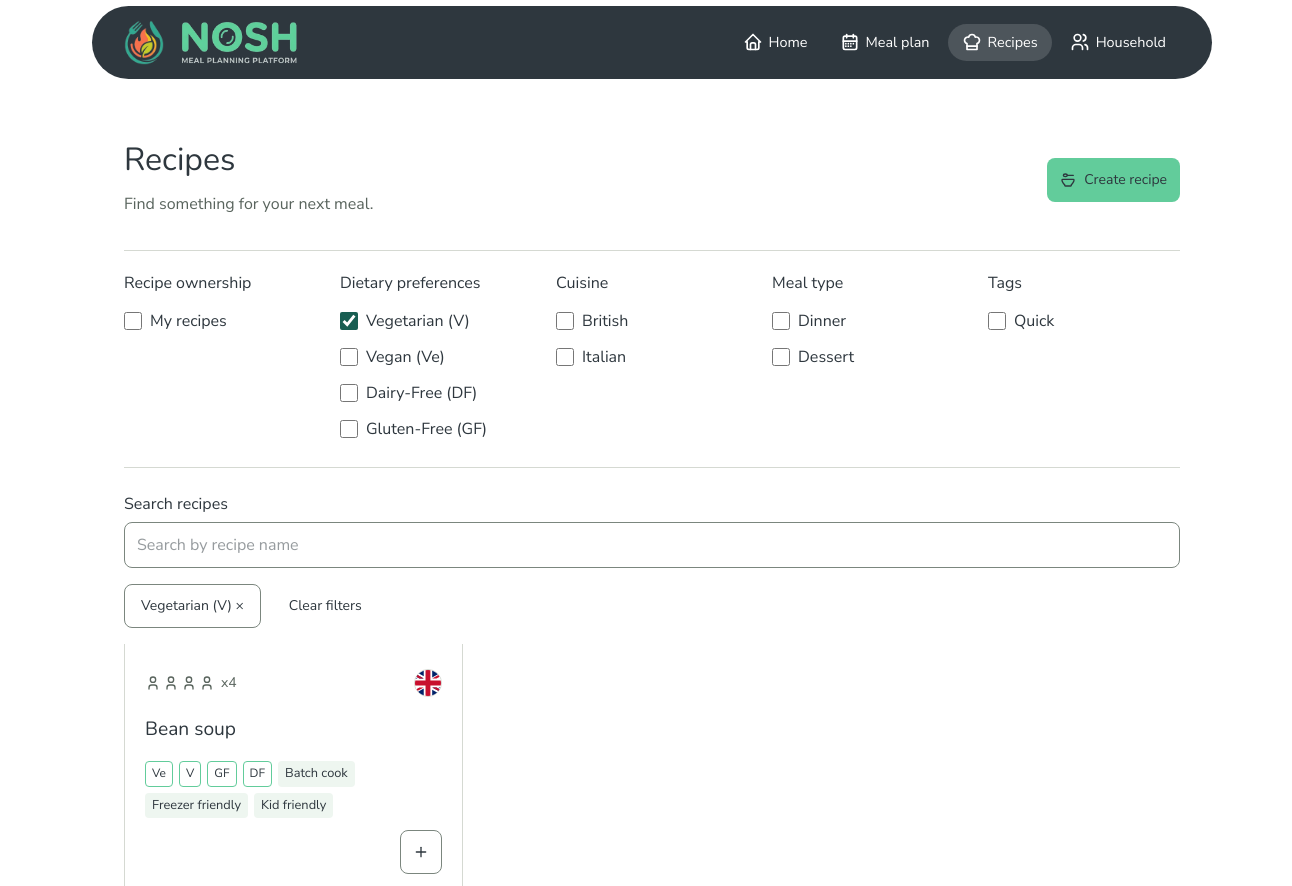
initialises household filters, clears the dietary param on clear, and shows dietary chips before three card tags
Expected: the link "Bean soup" is shown, [145, 716, 236, 742]
Expected: the list item "Ve" is shown, [145, 762, 173, 787]
Click the button "Clear filters" at (325, 606), box [273, 584, 378, 628]
(page scrolled)
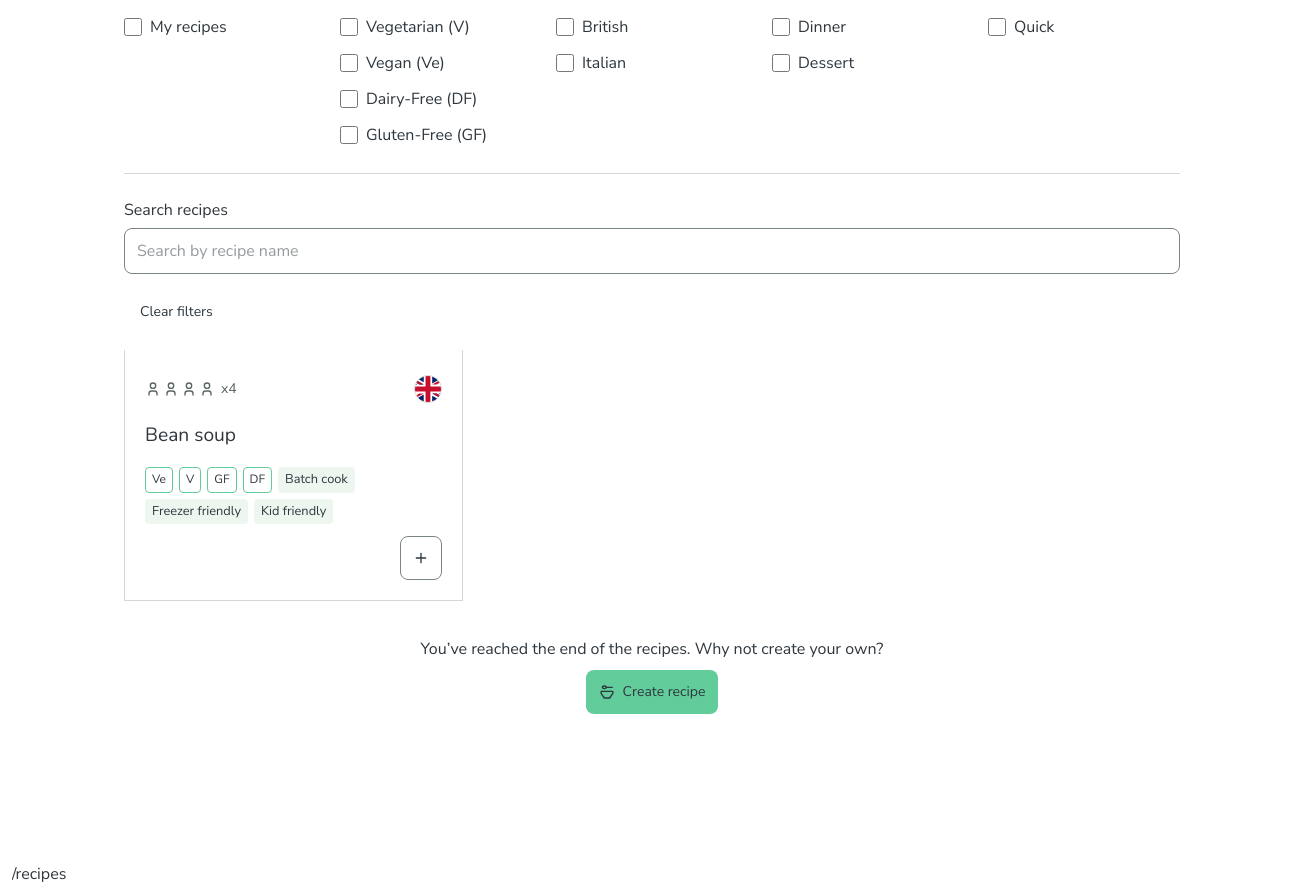
Expected: the text with test id "location" does not show "dietary", [12, 863, 66, 885]
Result: the text with test id "location" reads "/recipes" at [12, 863, 66, 885]
